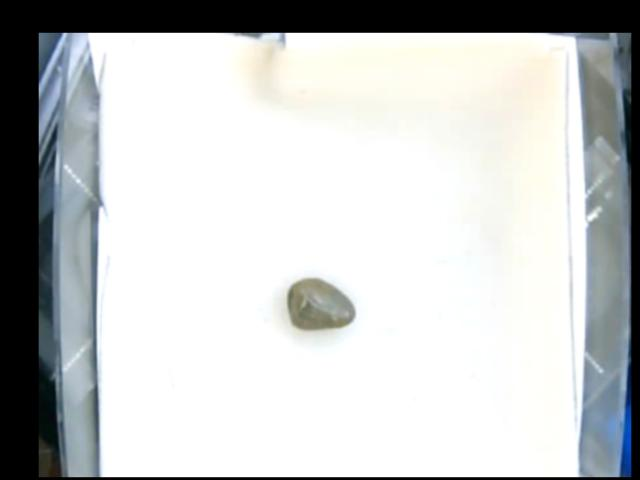Pebble: (289, 277, 355, 329)
